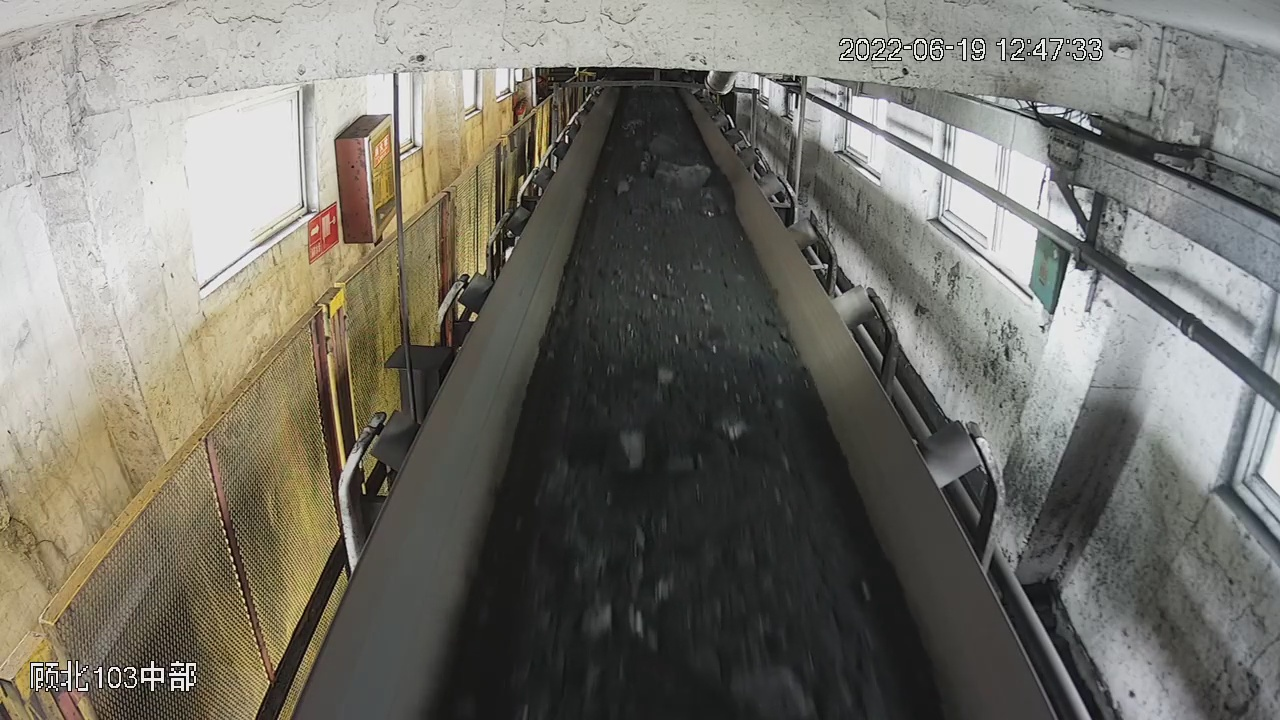gangue: (730, 660, 813, 720), (652, 155, 709, 189), (643, 132, 691, 160), (580, 598, 614, 635), (621, 426, 643, 468), (716, 408, 745, 438), (658, 366, 677, 385), (659, 197, 681, 212), (618, 179, 631, 195)
